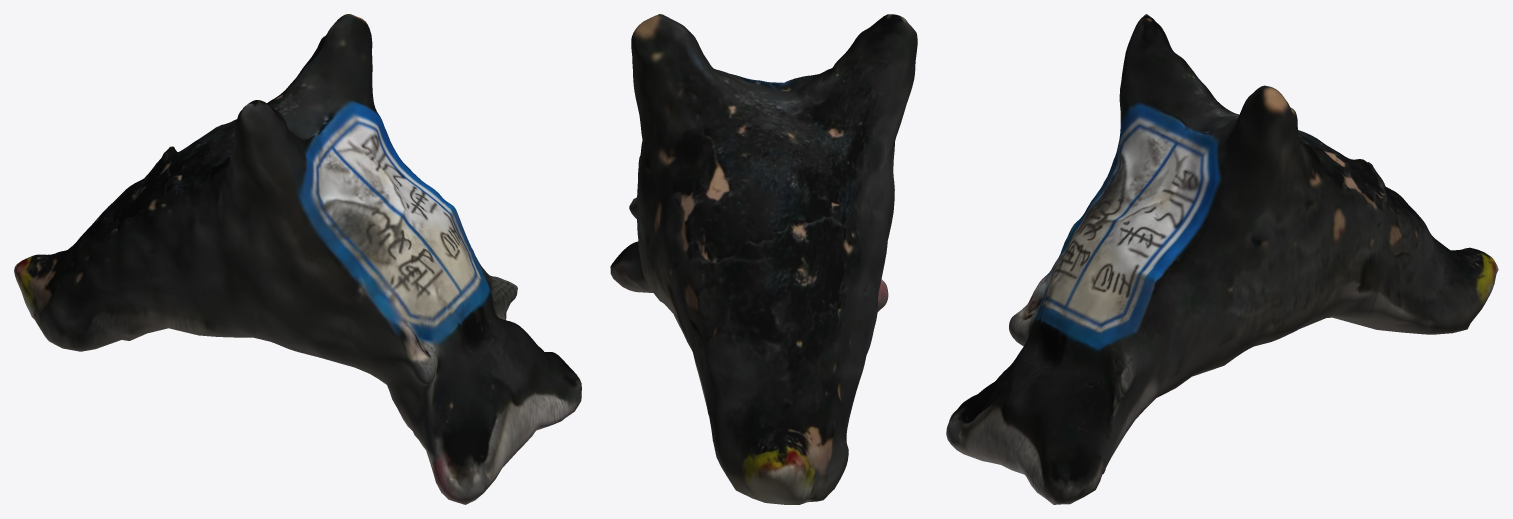
The picture shows the model from 3 angles, left to right: view 1: azimuth 30°, elevation 25°; view 2: azimuth 150°, elevation 25°; view 3: azimuth 270°, elevation 25°; orthographic projection. The views are drawn at different scales.
Size of the model in its own units: 0.5232 by 0.5018 by 0.6637.
Materials: 1 (1 with a texture image).
